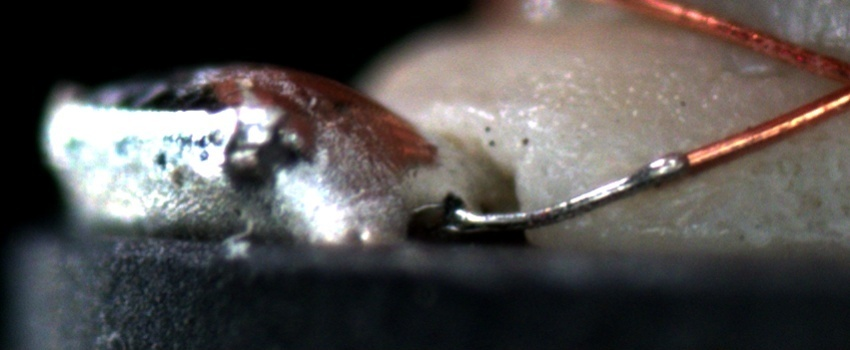DL: (590, 152, 794, 184)
TS: (453, 154, 688, 228)
TTCW: (445, 134, 735, 234)
